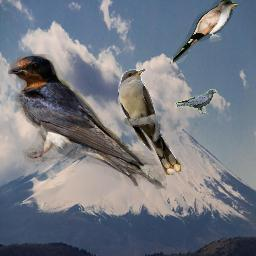Crow: (175, 89, 217, 114)
Cuckoo: (118, 69, 181, 175), (170, 0, 239, 64)
Swallow: (8, 54, 169, 193)
